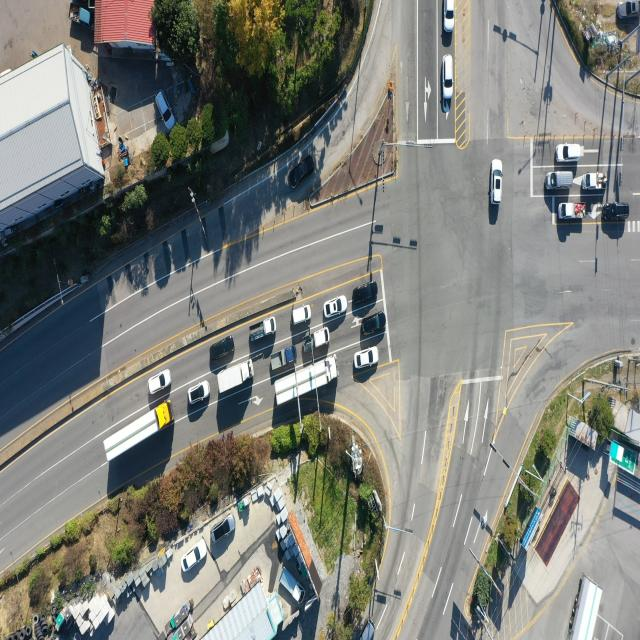car: (290, 156, 316, 190), (154, 93, 174, 133), (184, 538, 208, 571), (208, 335, 235, 364), (212, 517, 235, 546), (148, 369, 172, 395), (546, 170, 575, 191), (361, 315, 385, 338), (354, 347, 378, 369), (352, 282, 376, 304), (190, 378, 211, 403), (556, 143, 582, 163), (323, 297, 346, 319), (602, 199, 627, 218), (444, 55, 454, 100), (492, 159, 502, 203), (617, 0, 640, 19), (291, 305, 310, 326), (445, 0, 456, 32)
medium_truck: (102, 399, 172, 465), (270, 353, 338, 407), (567, 578, 602, 640), (217, 358, 252, 394)
small_truck: (302, 329, 331, 358), (267, 344, 298, 370), (251, 318, 278, 346), (278, 566, 300, 597), (66, 1, 92, 27), (559, 202, 586, 222), (584, 172, 608, 191)
